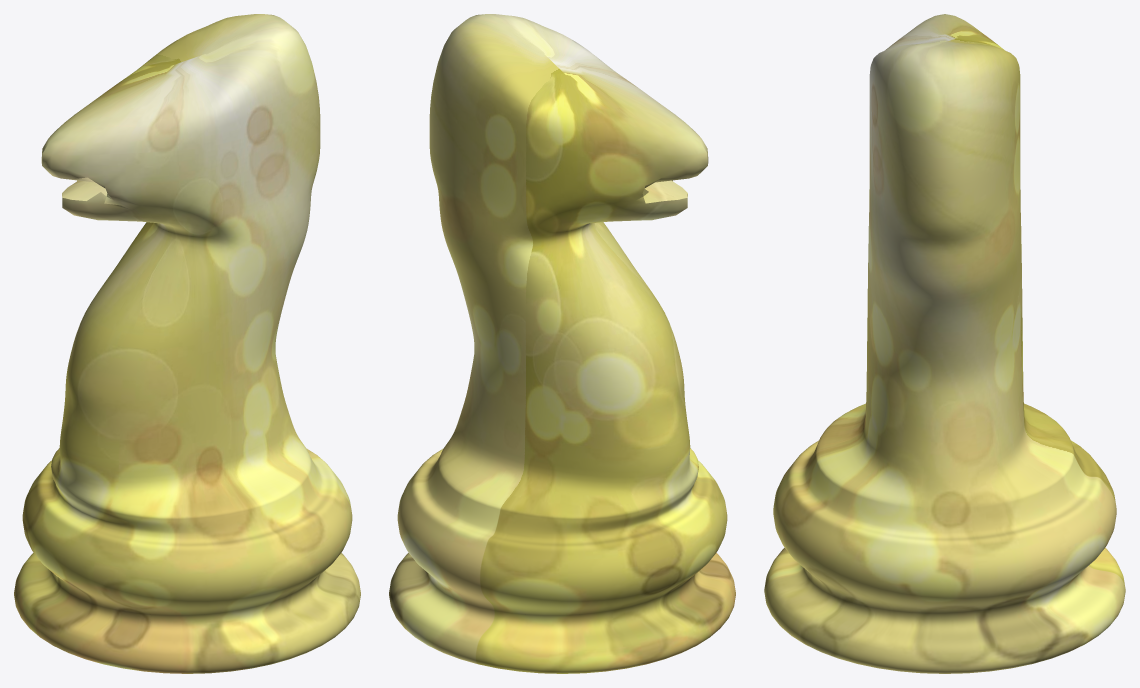
Rendered from knightBlue.obj.
3 renders of one model, left to right at view 1: azimuth 30°, elevation 25°; view 2: azimuth 150°, elevation 25°; view 3: azimuth 270°, elevation 25°, orthographic. The views are drawn at different scales.
Parts seen in each view (by area): view 1: mesh01; view 2: mesh01; view 3: mesh01.
Part boxes in pixels (x1,y1,x2,y2): mesh01: (14,14,360,673); mesh01: (389,14,735,673); mesh01: (764,14,1125,673).
Size of the model in its own units: 11.28 by 20.35 by 11.28.
